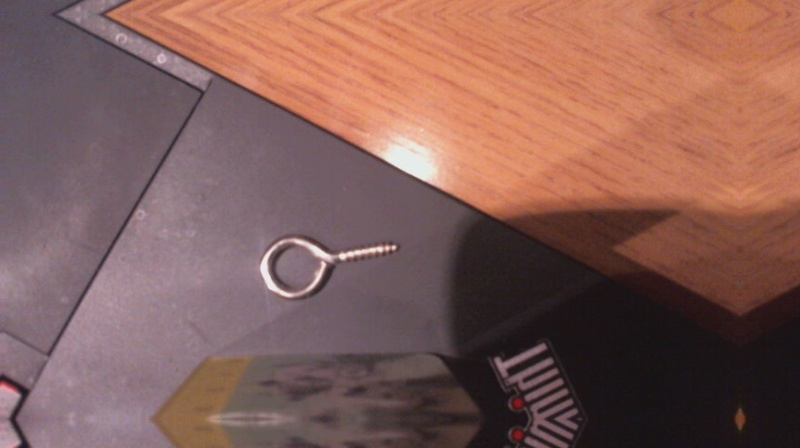O001: (254, 233, 398, 301)
